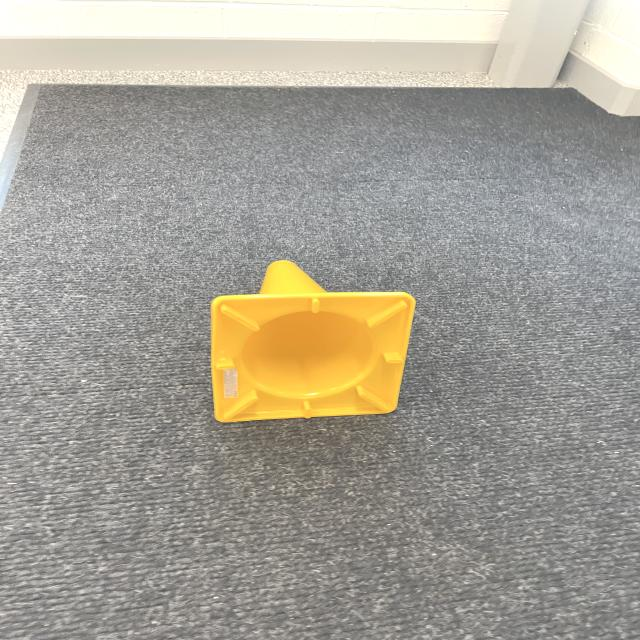frc_cone: (198, 248, 418, 426)
